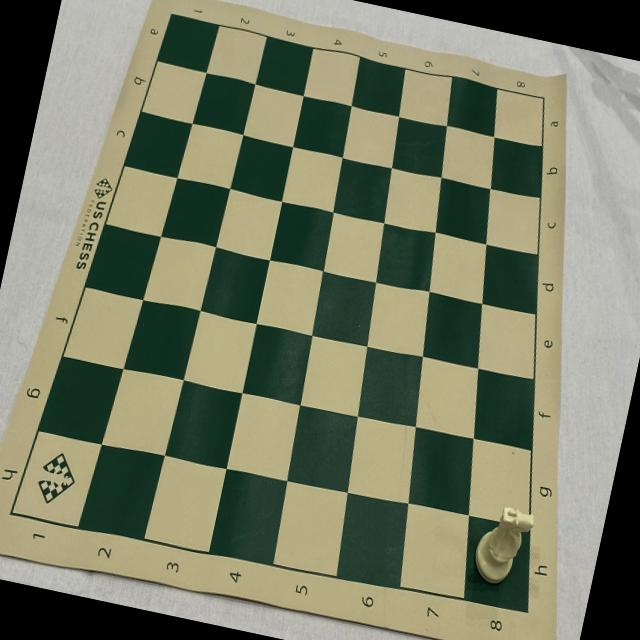white-knight: (468, 500, 538, 590)
